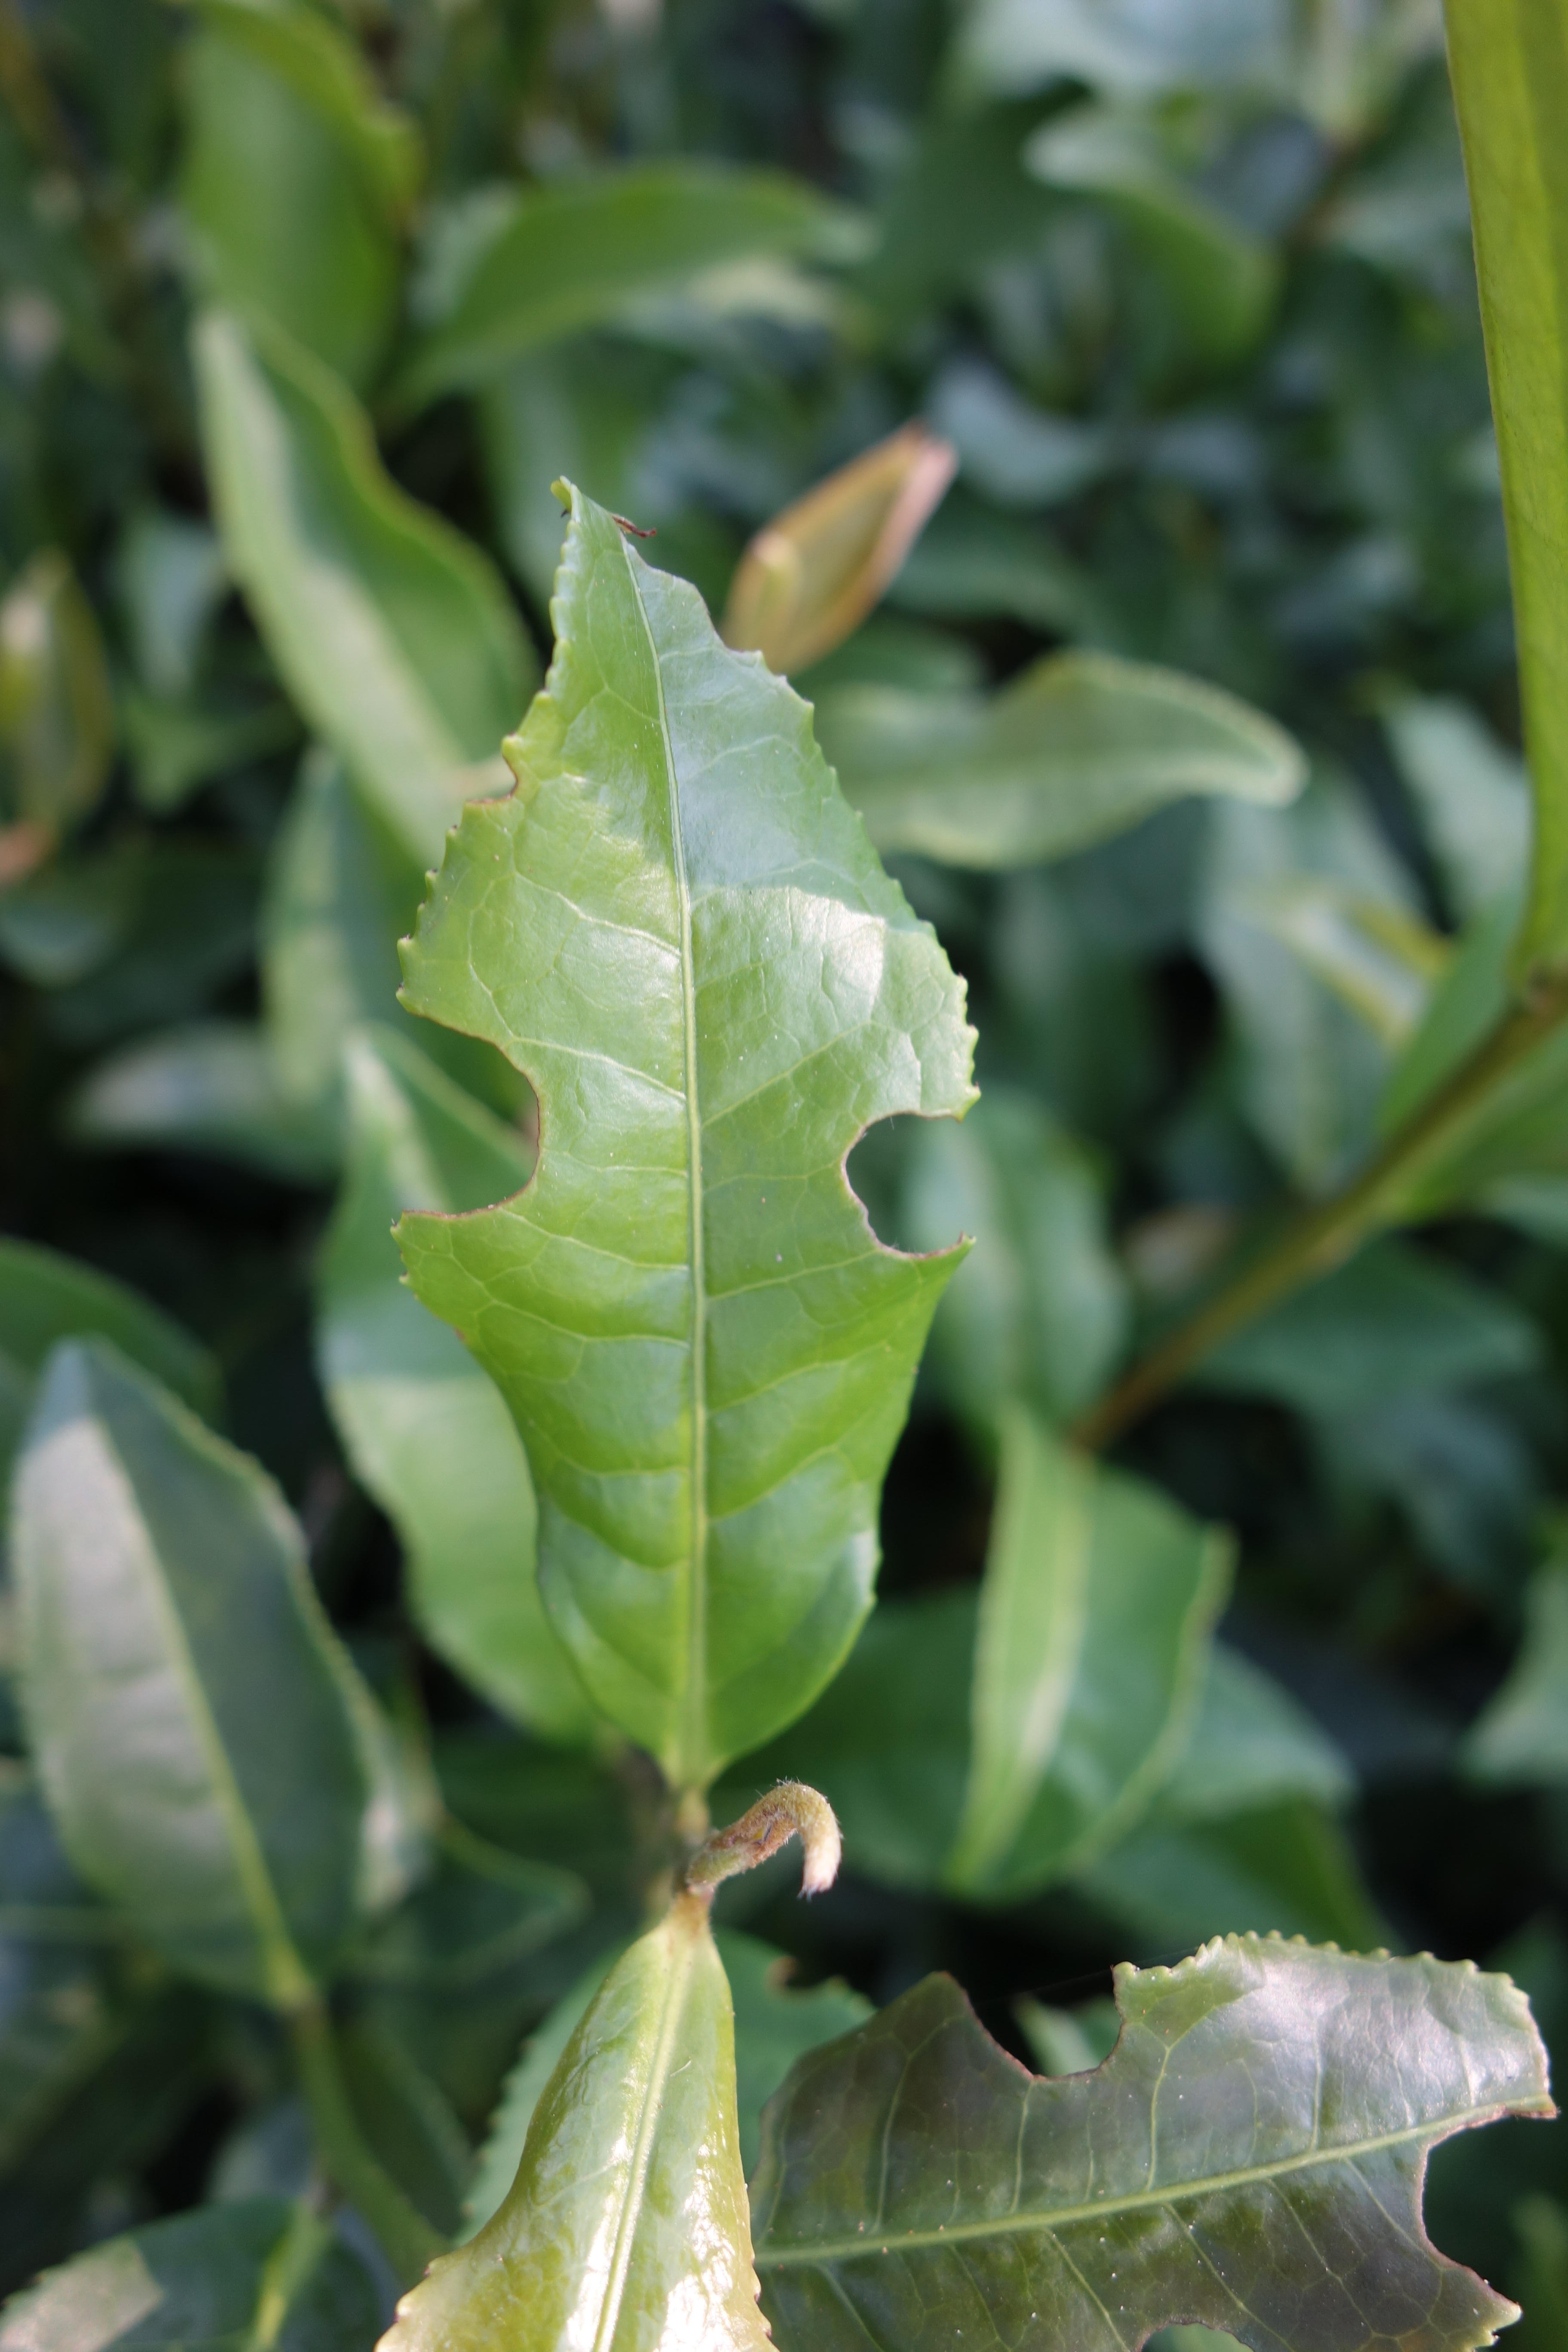chihuo_high: (387, 478, 983, 1783), (761, 1925, 1559, 2334)
